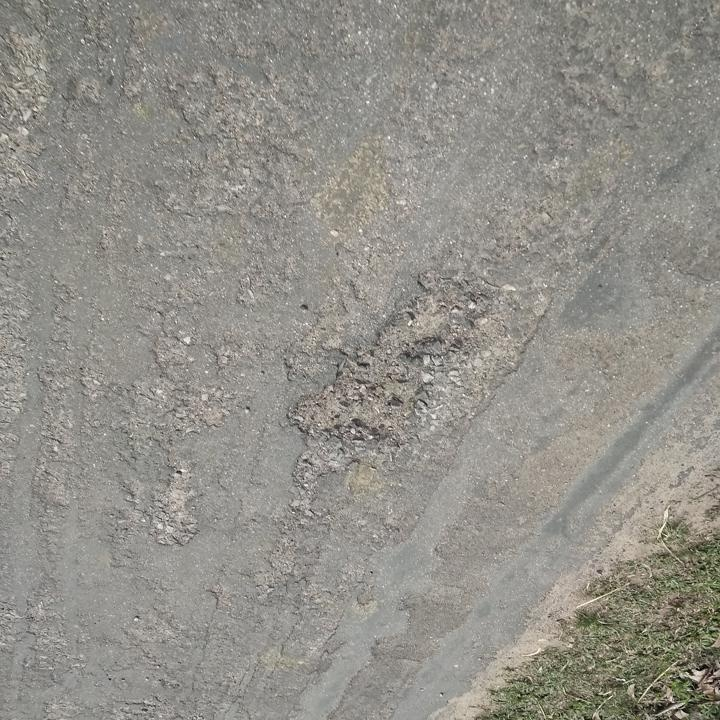pothole: (283, 277, 485, 449), (144, 468, 201, 549)
